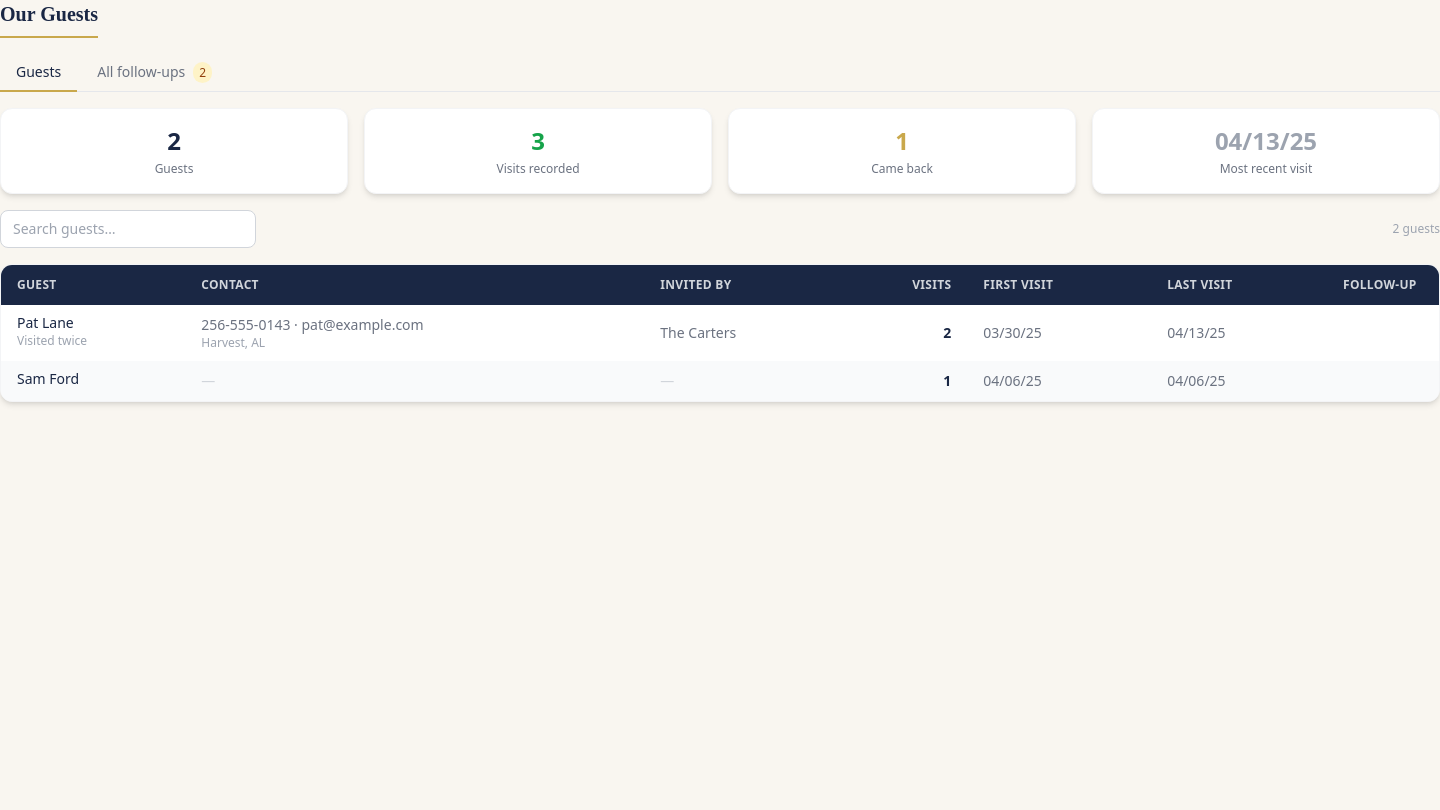
VisitorTracker › a guest we know little about says so rather than showing empty fields
The image size is (1440, 810).
Click the button "Sam Ford".
click(48, 379)  # box x1=17 y1=369 x2=79 y2=389
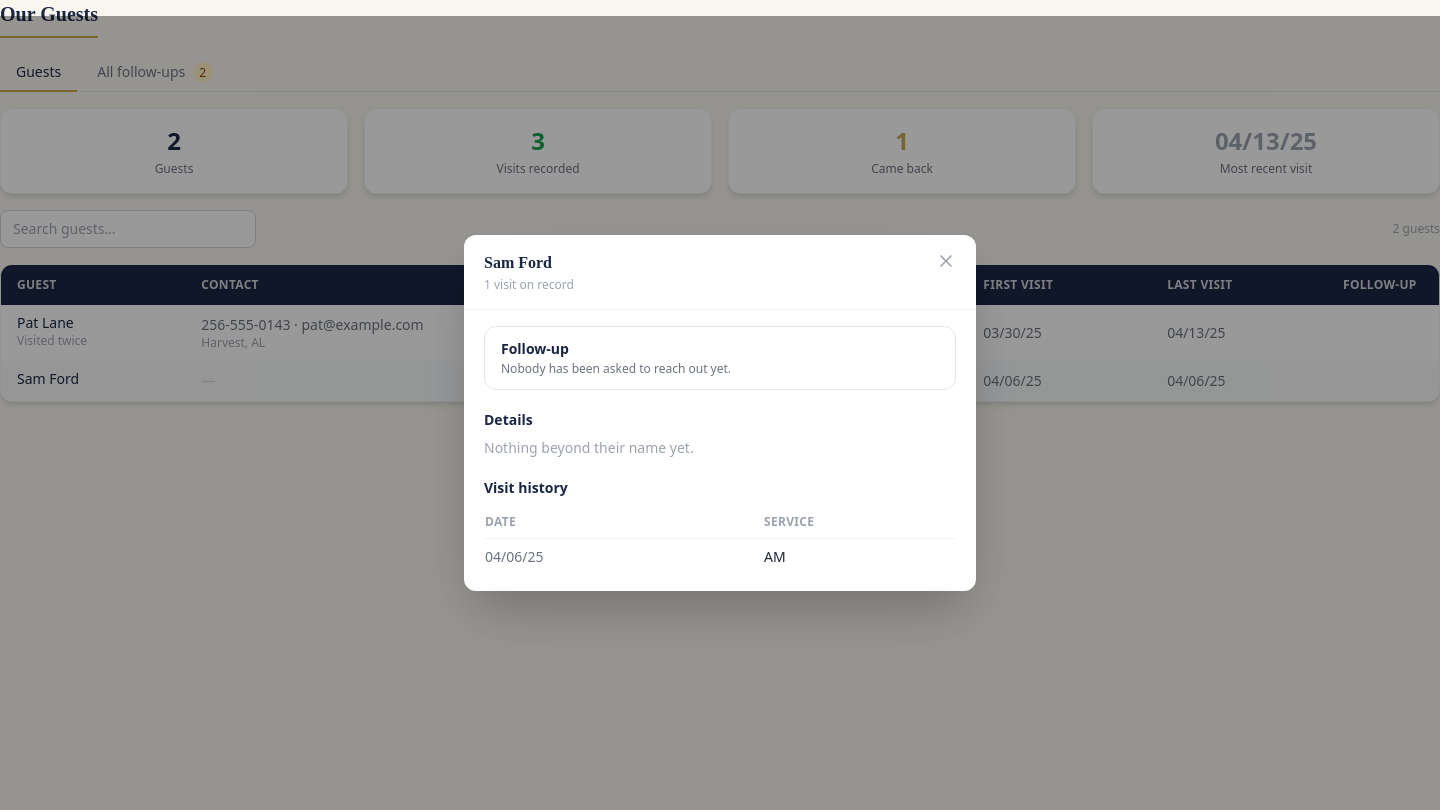
Result: the text "1 visit on record" is shown at x1=484 y1=277 x2=574 y2=293
Result: the text "Nothing beyond their name yet." is shown at x1=484 y1=438 x2=694 y2=457
